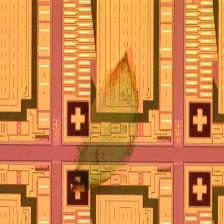COATING BAD: (66, 48, 150, 200)
